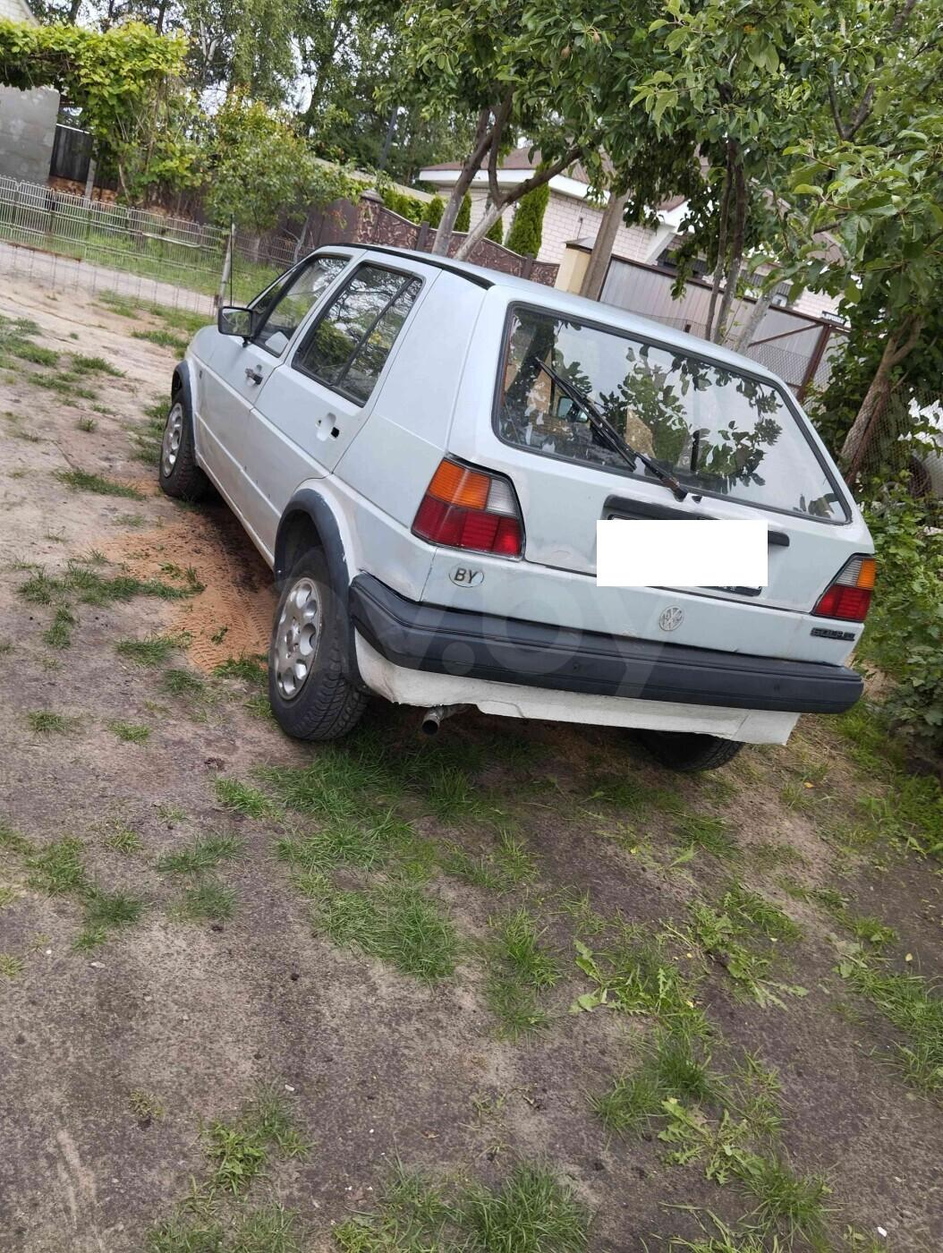Golf_1983-1992: (150, 242, 879, 777)
